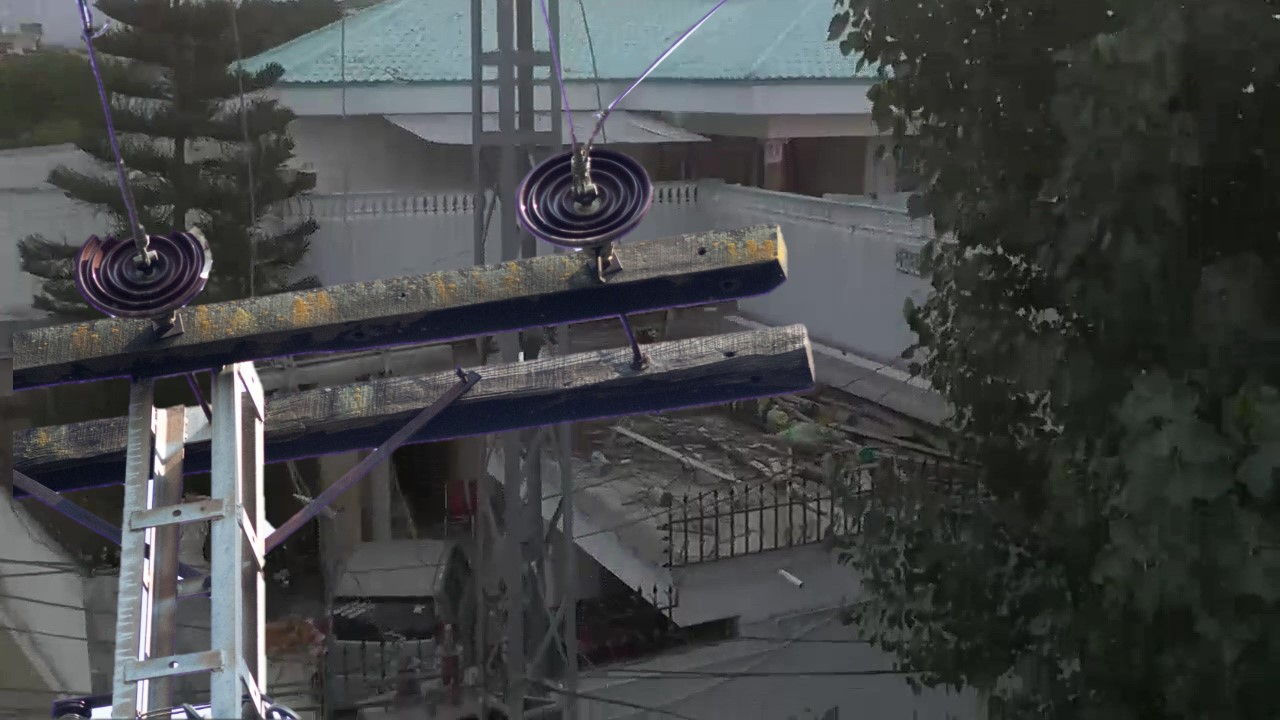defect_disc: (72, 218, 224, 317)
insulator_disc: (515, 141, 655, 256)
